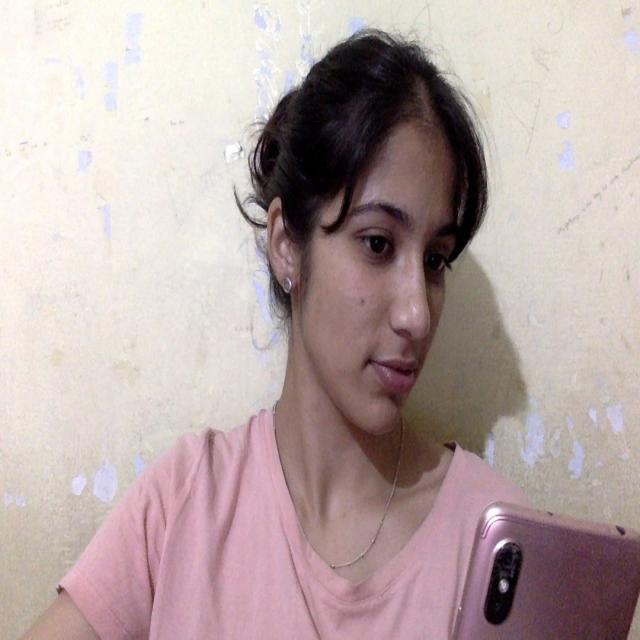Phone: (450, 500, 640, 640)
